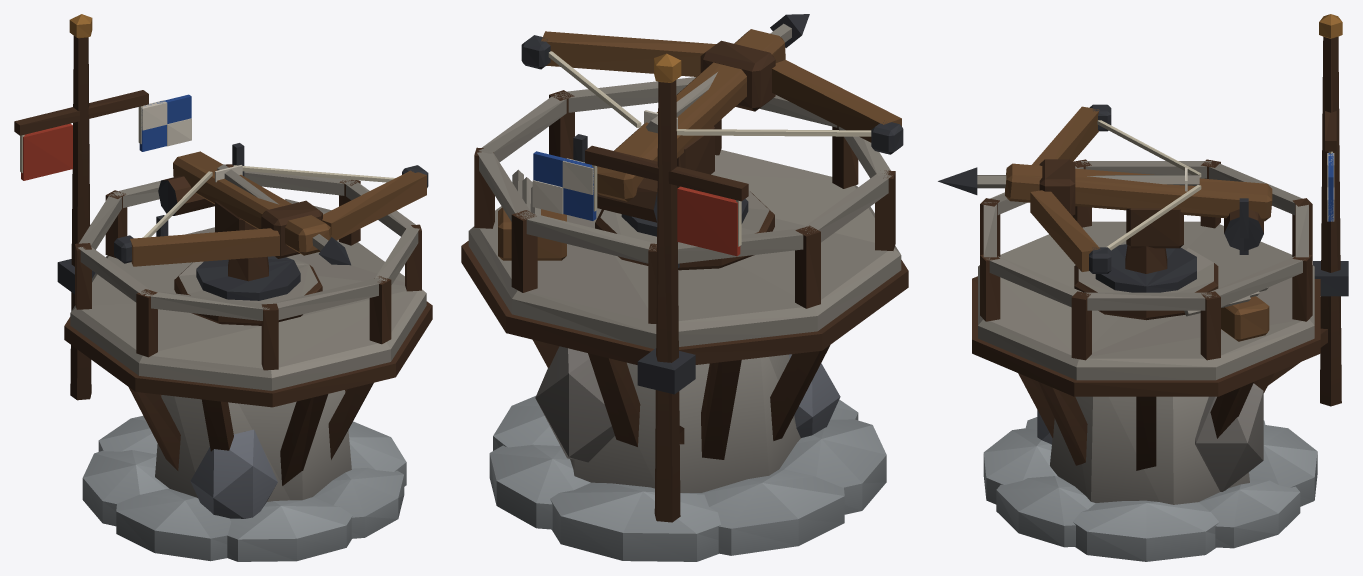
The model's file is perch_ballista.glb.
The picture shows the model from 3 angles, left to right: view 1: azimuth 30°, elevation 25°; view 2: azimuth 150°, elevation 25°; view 3: azimuth 270°, elevation 25°; orthographic projection. The views are drawn at different scales.
Visible parts, largest first — view 1: perch_ballista; view 2: perch_ballista; view 3: perch_ballista.
Part boxes in pixels (left/top/right/bottom): perch_ballista: left=14, top=14, right=432, bottom=561; perch_ballista: left=461, top=14, right=908, bottom=561; perch_ballista: left=938, top=14, right=1348, bottom=561.
Bounding box in the file's own units: 0.809 × 1.12 × 0.925.
